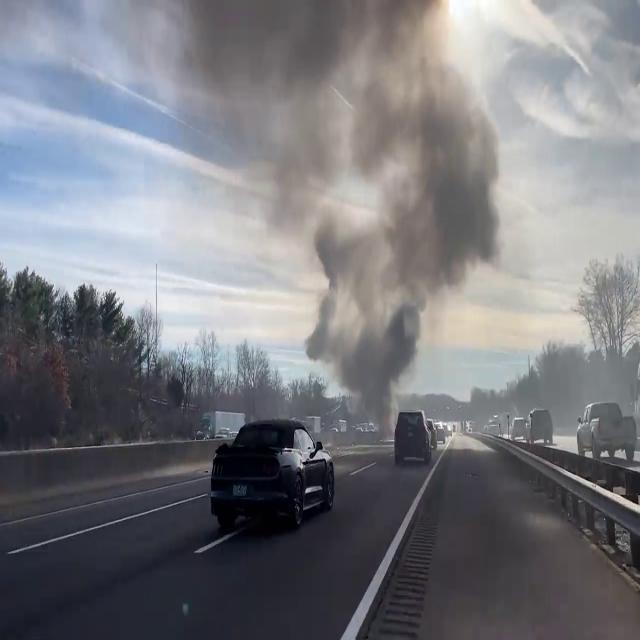Smoke: (194, 0, 506, 416)
